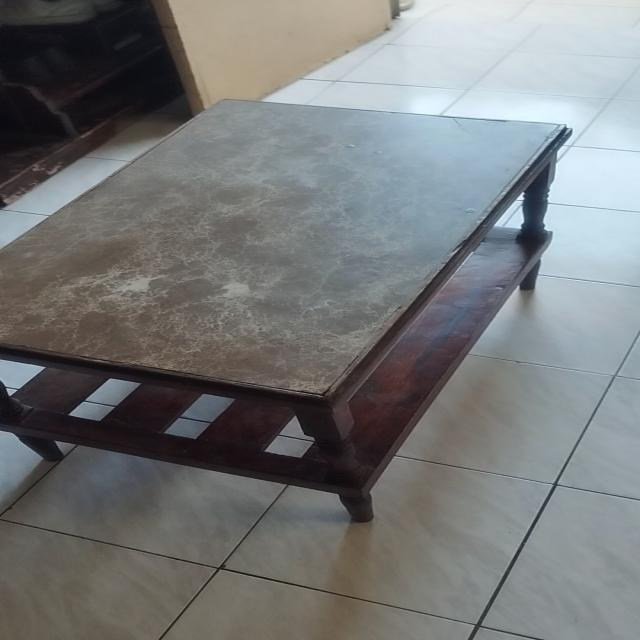table: (0, 97, 572, 528)
